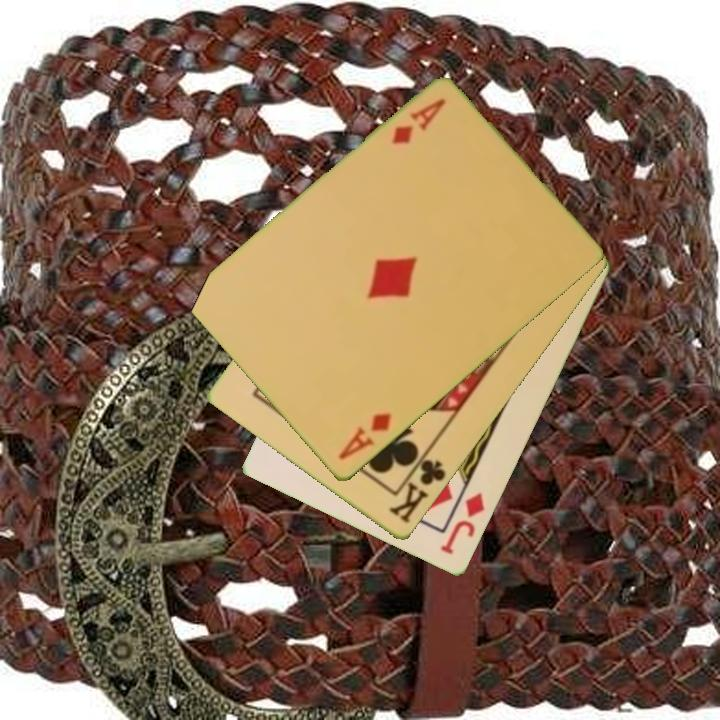Ad: (334, 409, 395, 464), (387, 95, 449, 148)
Jd: (437, 489, 488, 558)
Kc: (385, 447, 449, 527)
